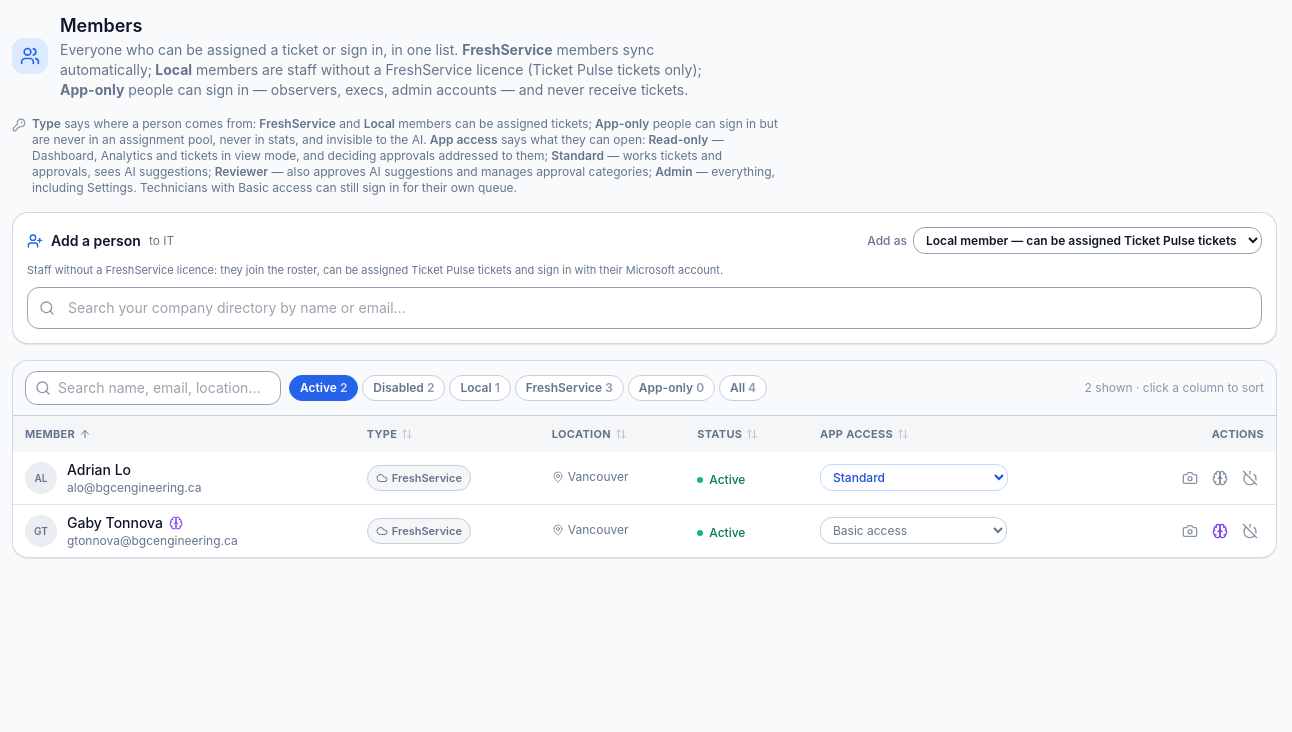
Scenario: MembersPanel (table rebuild) › search narrows by name/email/location
Expected: the text "Adrian Lo" is shown, [67, 460, 131, 478]
Click the button "All 4": (743, 388) [719, 374, 767, 400]
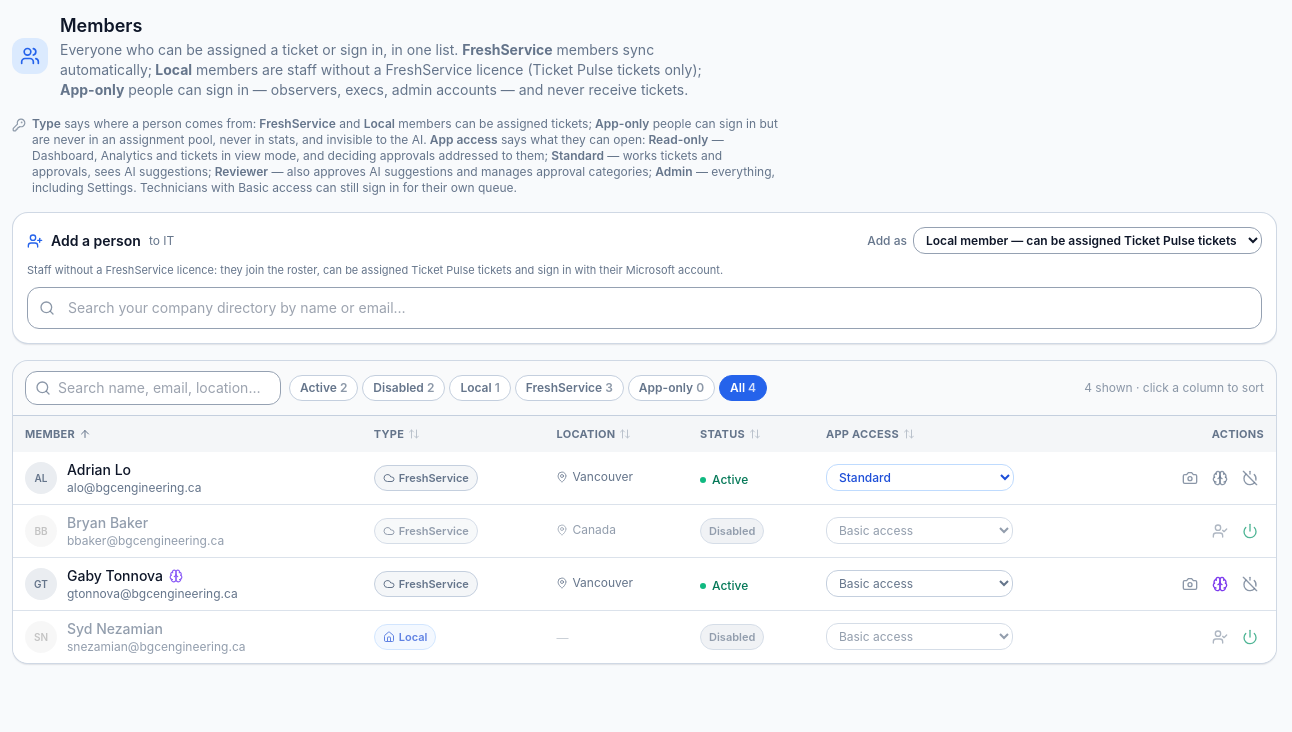
In the field named "Search members": (153, 388) [25, 370, 281, 404], type "syd"
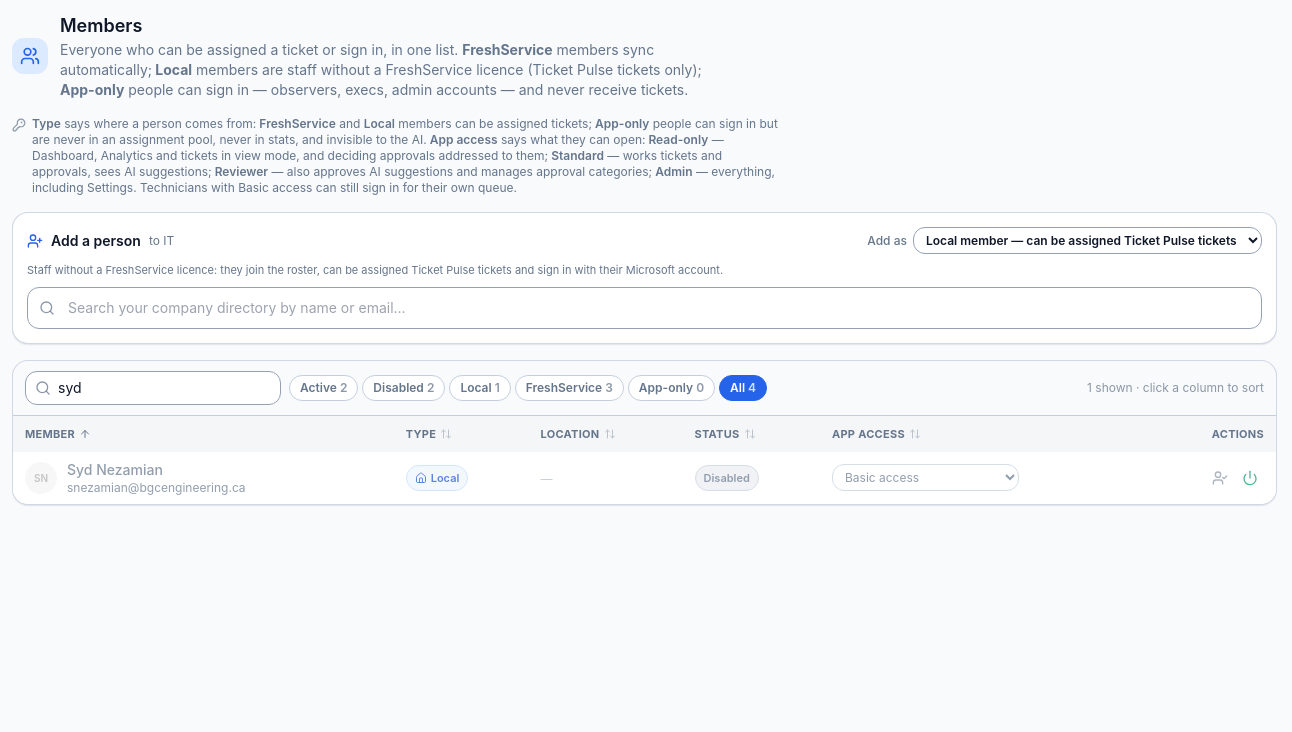
Now the text "Syd Nezamian" is shown, box [67, 460, 163, 478]
Now the text "Adrian Lo" is gone
